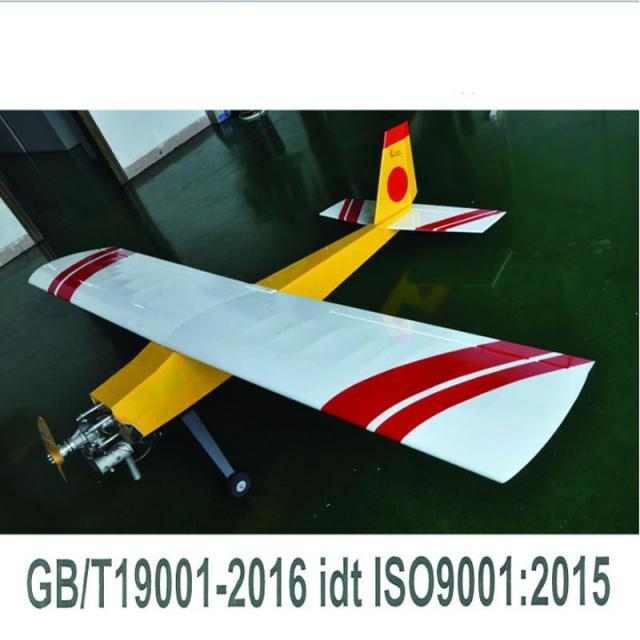iha: (18, 117, 597, 505)
